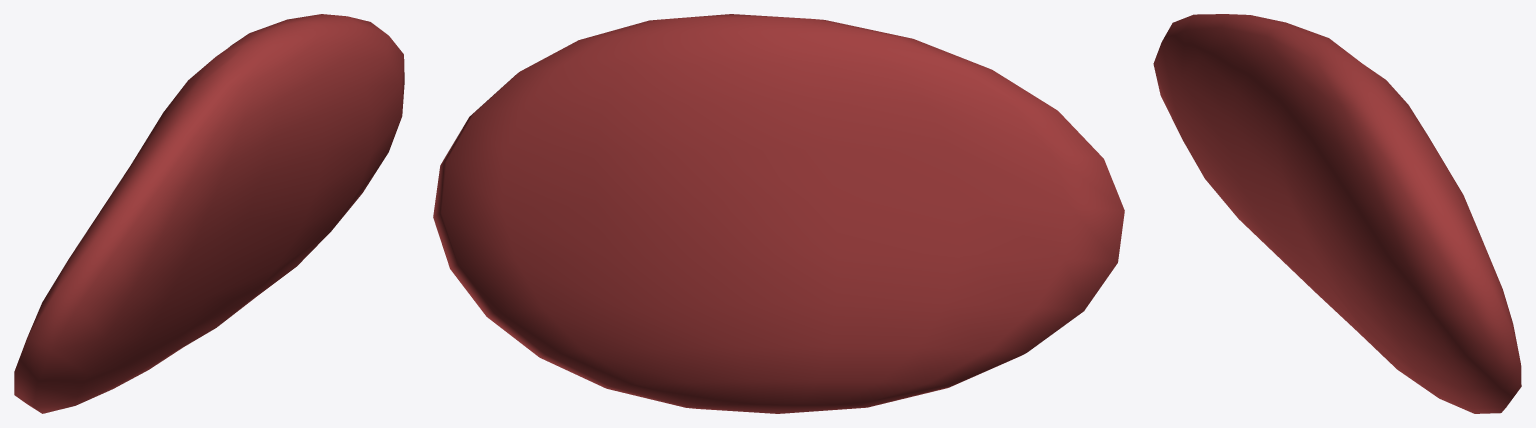
Rendered from subtendinous-bursa-of-obturator-internus-r.glb.
The picture shows the model from 3 angles, left to right: view 1: azimuth 30°, elevation 25°; view 2: azimuth 150°, elevation 25°; view 3: azimuth 270°, elevation 25°; orthographic projection. The views are drawn at different scales.
Visible parts, largest first — view 1: Subtendinous bursa of obturator internus.r; view 2: Subtendinous bursa of obturator internus.r; view 3: Subtendinous bursa of obturator internus.r.
Part boxes in pixels (x1,y1,x2,y2): Subtendinous bursa of obturator internus.r: [14, 14, 404, 413]; Subtendinous bursa of obturator internus.r: [433, 14, 1124, 413]; Subtendinous bursa of obturator internus.r: [1153, 14, 1521, 413].
Bounding box in the file's own units: 0.0132 × 0.00809 × 0.00775.
